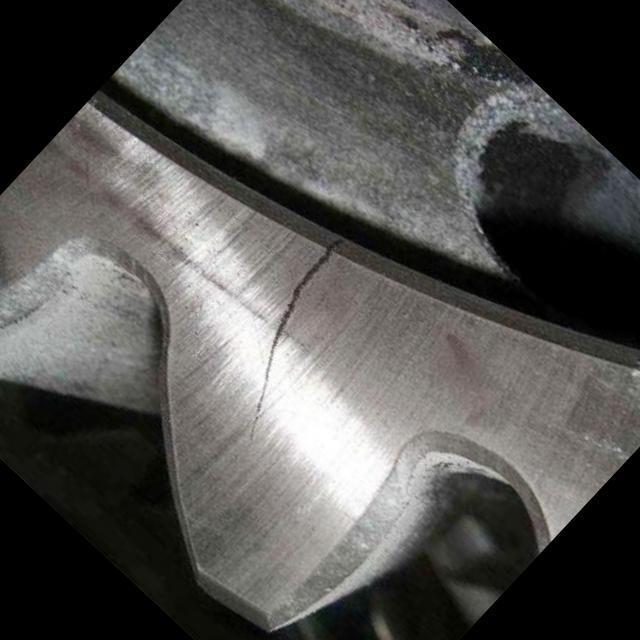defect: (243, 232, 348, 451)
